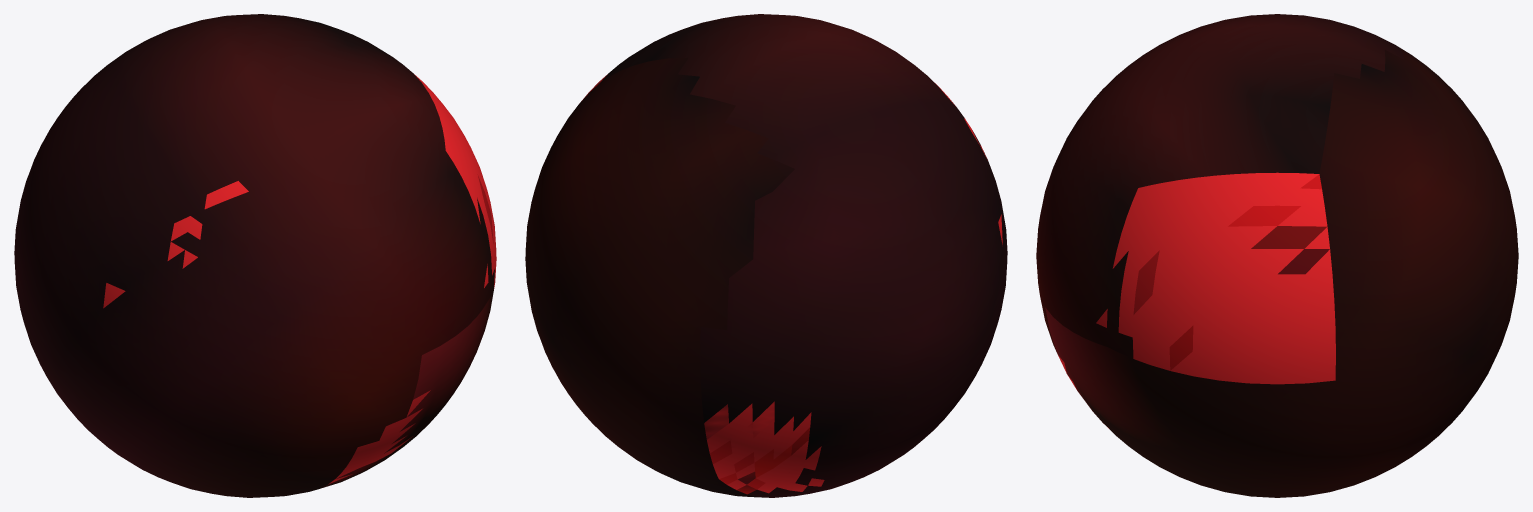
3 views of the same model, side by side, from view 1: azimuth 30°, elevation 25°; view 2: azimuth 150°, elevation 25°; view 3: azimuth 270°, elevation 25° (orthographic).
Visible parts, largest first — view 1: node_id5; view 2: node_id5; view 3: node_id5.
Part boxes in pixels (<box>): node_id5: <box>14,14,496,497</box>; node_id5: <box>525,14,1007,497</box>; node_id5: <box>1036,14,1518,497</box>.
Size of the model in its own units: 0.5098 by 0.512 by 0.5098.
Materials: 1 (1 with a texture image).
